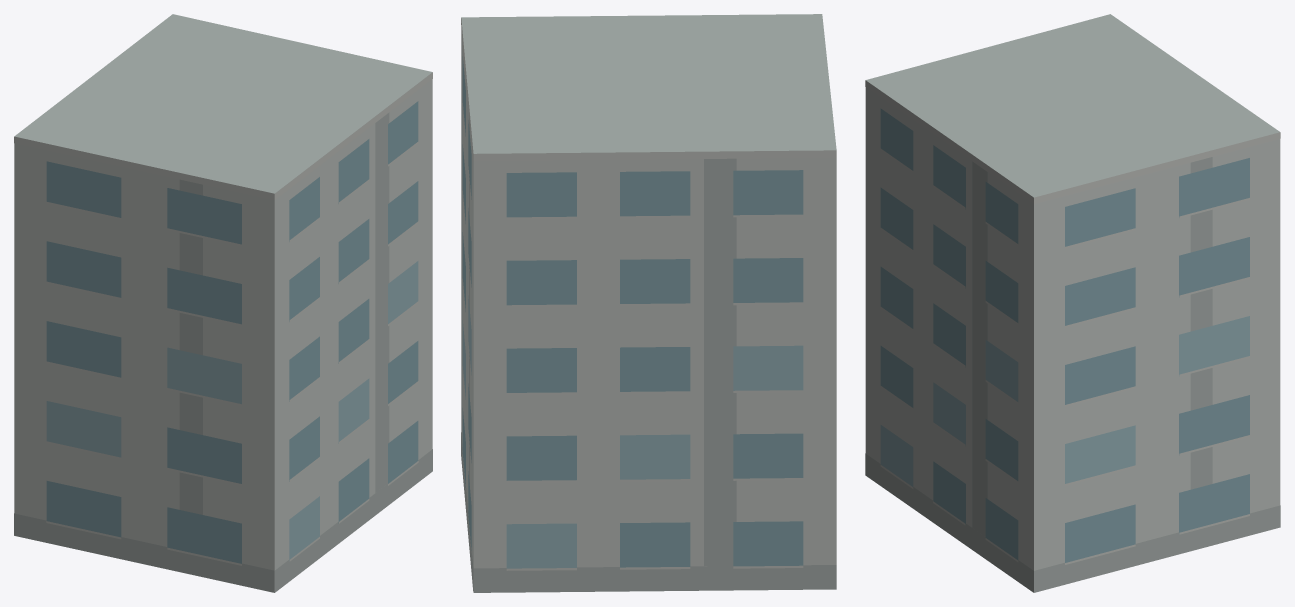
Rendered from survey-upis-32788923.glb.
3 views of the same model, side by side, from view 1: azimuth 30°, elevation 25°; view 2: azimuth 150°, elevation 25°; view 3: azimuth 270°, elevation 25° (orthographic). The views are drawn at different scales.
Parts seen in each view (by area): view 1: survey-upis-32788923.tmp; view 2: survey-upis-32788923.tmp; view 3: survey-upis-32788923.tmp.
Boxes of the visible parts, <box> form: survey-upis-32788923.tmp: <box>14,14,432,592</box>; survey-upis-32788923.tmp: <box>461,14,836,592</box>; survey-upis-32788923.tmp: <box>865,14,1280,592</box>.
Bounding box in the file's own units: 14.35 × 14.4 × 13.71.
